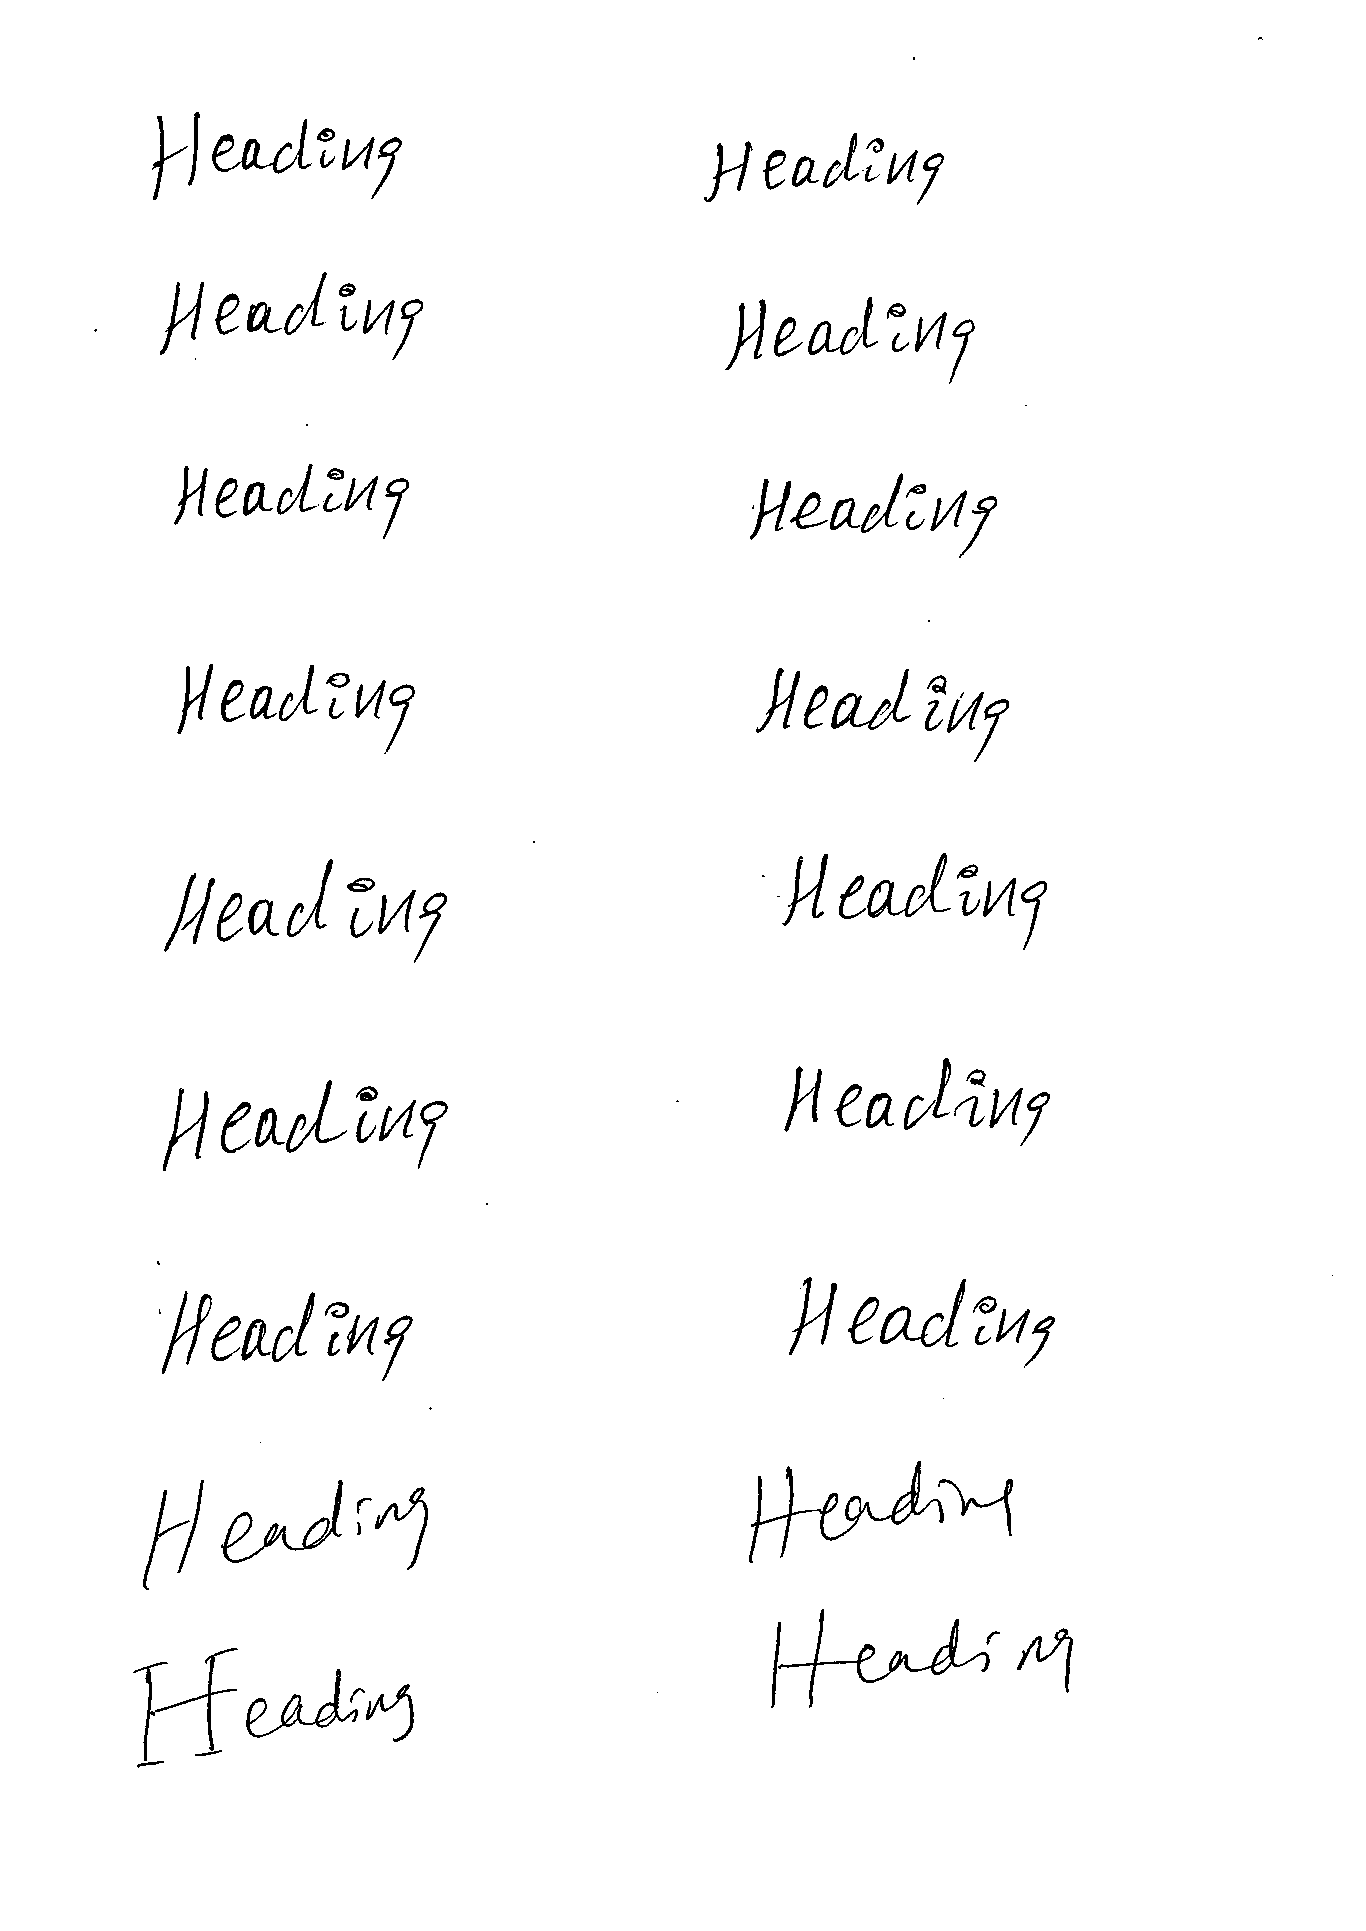Heading: (132, 1644, 415, 1771), (139, 1473, 429, 1592), (164, 852, 449, 968), (767, 1609, 1075, 1714), (747, 1461, 1017, 1564), (160, 1079, 451, 1175), (781, 852, 1048, 952), (751, 662, 1010, 766), (784, 1059, 1053, 1155), (784, 1273, 1057, 1363), (151, 109, 404, 203), (157, 268, 421, 356), (158, 1286, 414, 1377), (748, 472, 999, 556), (177, 656, 418, 739), (723, 296, 976, 373), (702, 130, 945, 206), (171, 457, 410, 528)
